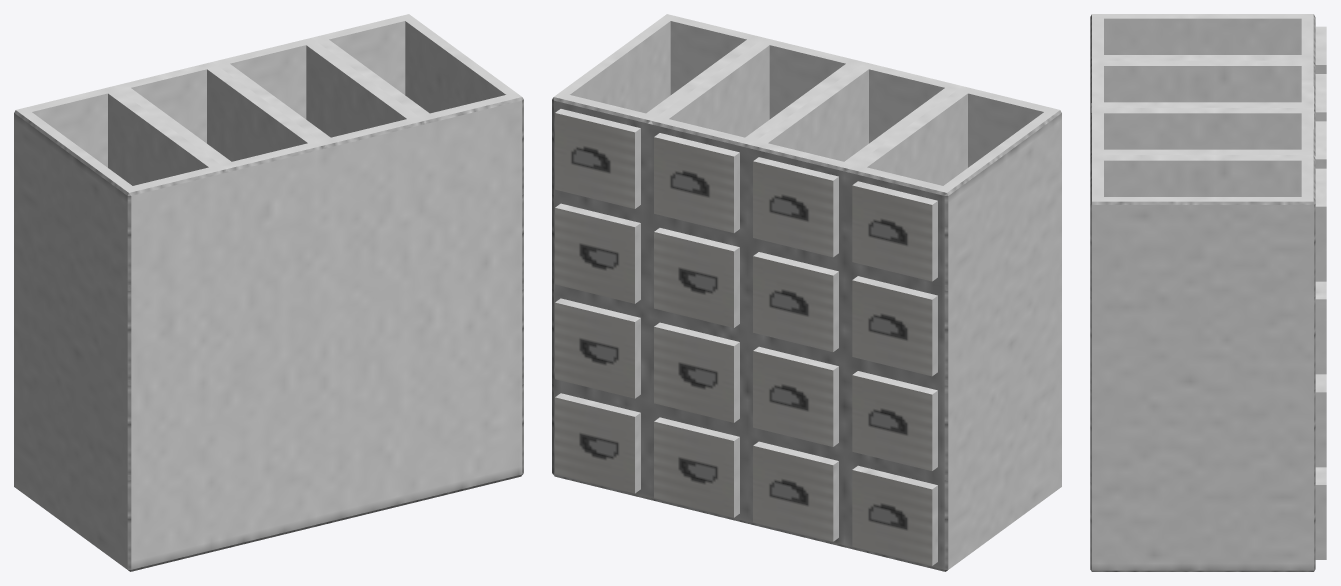
Rendered from Caixa.fbx.
The picture shows the model from 3 angles, left to right: view 1: azimuth 30°, elevation 25°; view 2: azimuth 150°, elevation 25°; view 3: azimuth 270°, elevation 25°; orthographic projection. The views are drawn at different scales.
Visible parts, largest first — view 1: Caixa; view 2: Caixa; view 3: Caixa.
Boxes of the visible parts, left/top/right/bottom form: Caixa: left=14, top=14, right=523, bottom=571; Caixa: left=552, top=14, right=1061, bottom=571; Caixa: left=1090, top=14, right=1326, bottom=571.
Size of the model in its own units: 330 by 302 by 174.
